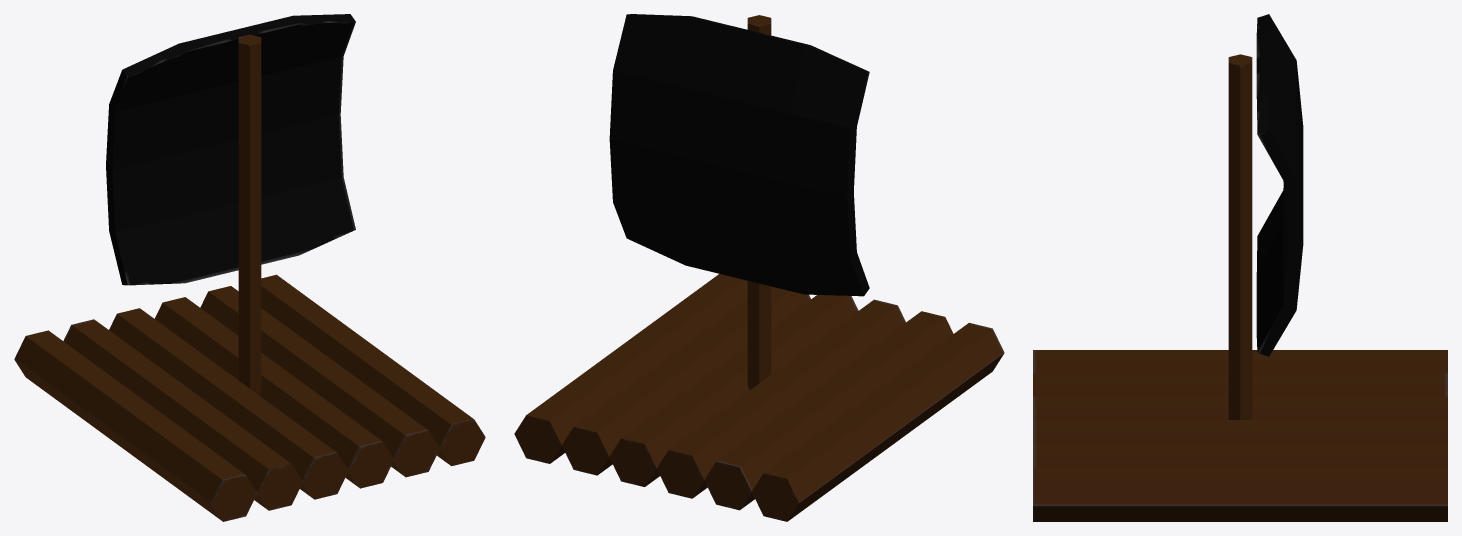
The model's file is raft1.gltf.
3 renders of one model, left to right at view 1: azimuth 30°, elevation 25°; view 2: azimuth 150°, elevation 25°; view 3: azimuth 270°, elevation 25°, orthographic. The views are drawn at different scales.
Visible parts, largest first — view 1: MeshInstance; view 2: MeshInstance; view 3: MeshInstance.
Boxes of the visible parts, left/top/right/bottom form: MeshInstance: left=14, top=14, right=485, bottom=521; MeshInstance: left=514, top=14, right=1004, bottom=521; MeshInstance: left=1033, top=14, right=1447, bottom=521.
Size of the model in its own units: 2.4 by 3.18 by 3.
1 material, 1 textured.
